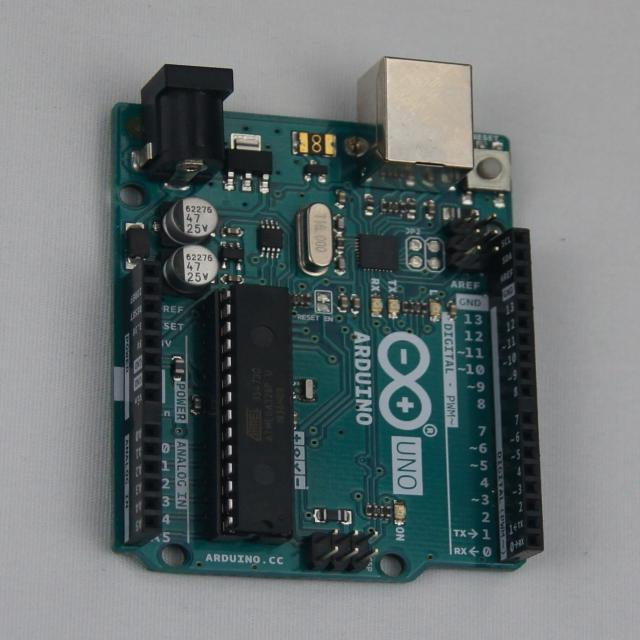Arduino Uno -Green-: (112, 58, 544, 582)
